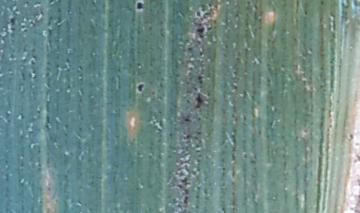tarspot: (193, 92, 203, 109), (195, 25, 207, 39), (8, 16, 17, 32), (134, 1, 146, 12), (136, 80, 144, 95), (196, 73, 204, 85), (183, 116, 191, 123), (302, 9, 309, 17), (195, 9, 201, 17), (319, 1, 324, 6)
